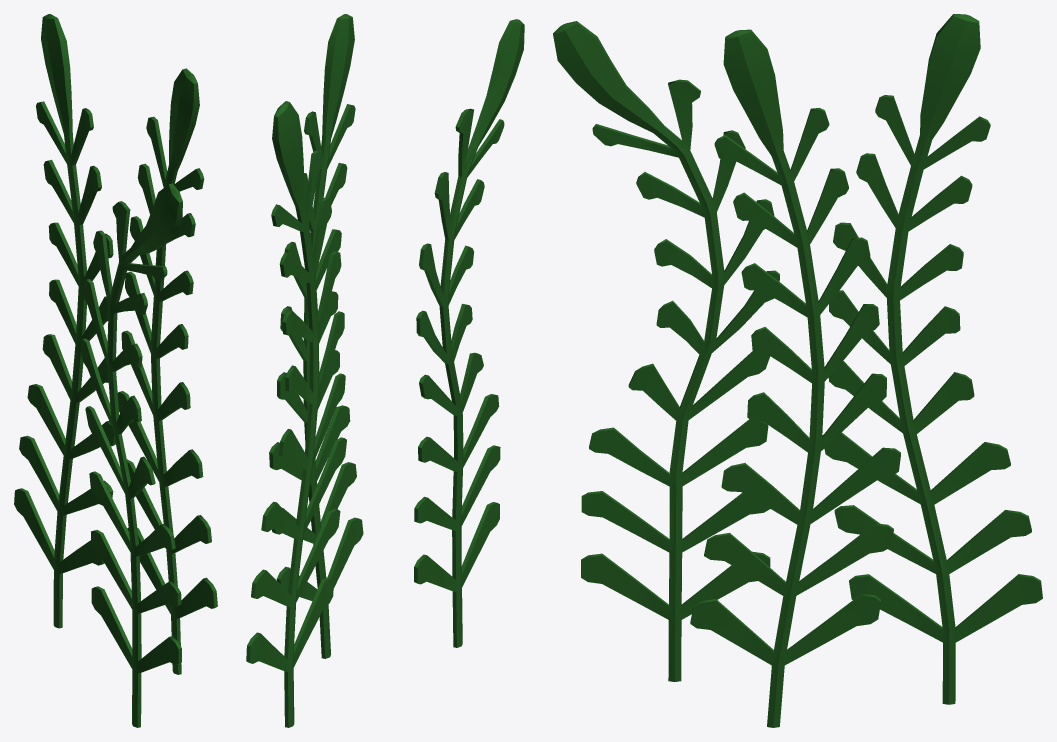
Rendered from Plants_Bushes_01_UVOpen.fbx.
The picture shows the model from 3 angles, left to right: view 1: azimuth 30°, elevation 25°; view 2: azimuth 150°, elevation 25°; view 3: azimuth 270°, elevation 25°; orthographic projection. The views are drawn at different scales.
Visible parts, largest first — view 1: pCylinder7, pCylinder8, pCylinder6; view 2: pCylinder8, pCylinder7, pCylinder6; view 3: pCylinder6, pCylinder8, pCylinder7.
Part boxes in pixels (box(x1,y1,x2,y2)): pCylinder7: box(80, 183, 182, 727); pCylinder8: box(14, 14, 115, 628); pCylinder6: box(117, 68, 217, 674); pCylinder8: box(246, 101, 346, 727); pCylinder7: box(414, 19, 524, 647); pCylinder6: box(269, 14, 363, 658); pCylinder6: box(690, 29, 900, 727); pCylinder8: box(822, 14, 1042, 704); pCylinder7: box(553, 21, 779, 681).
Bounding box in the file's own units: 9.75 × 54.79 × 34.98.
